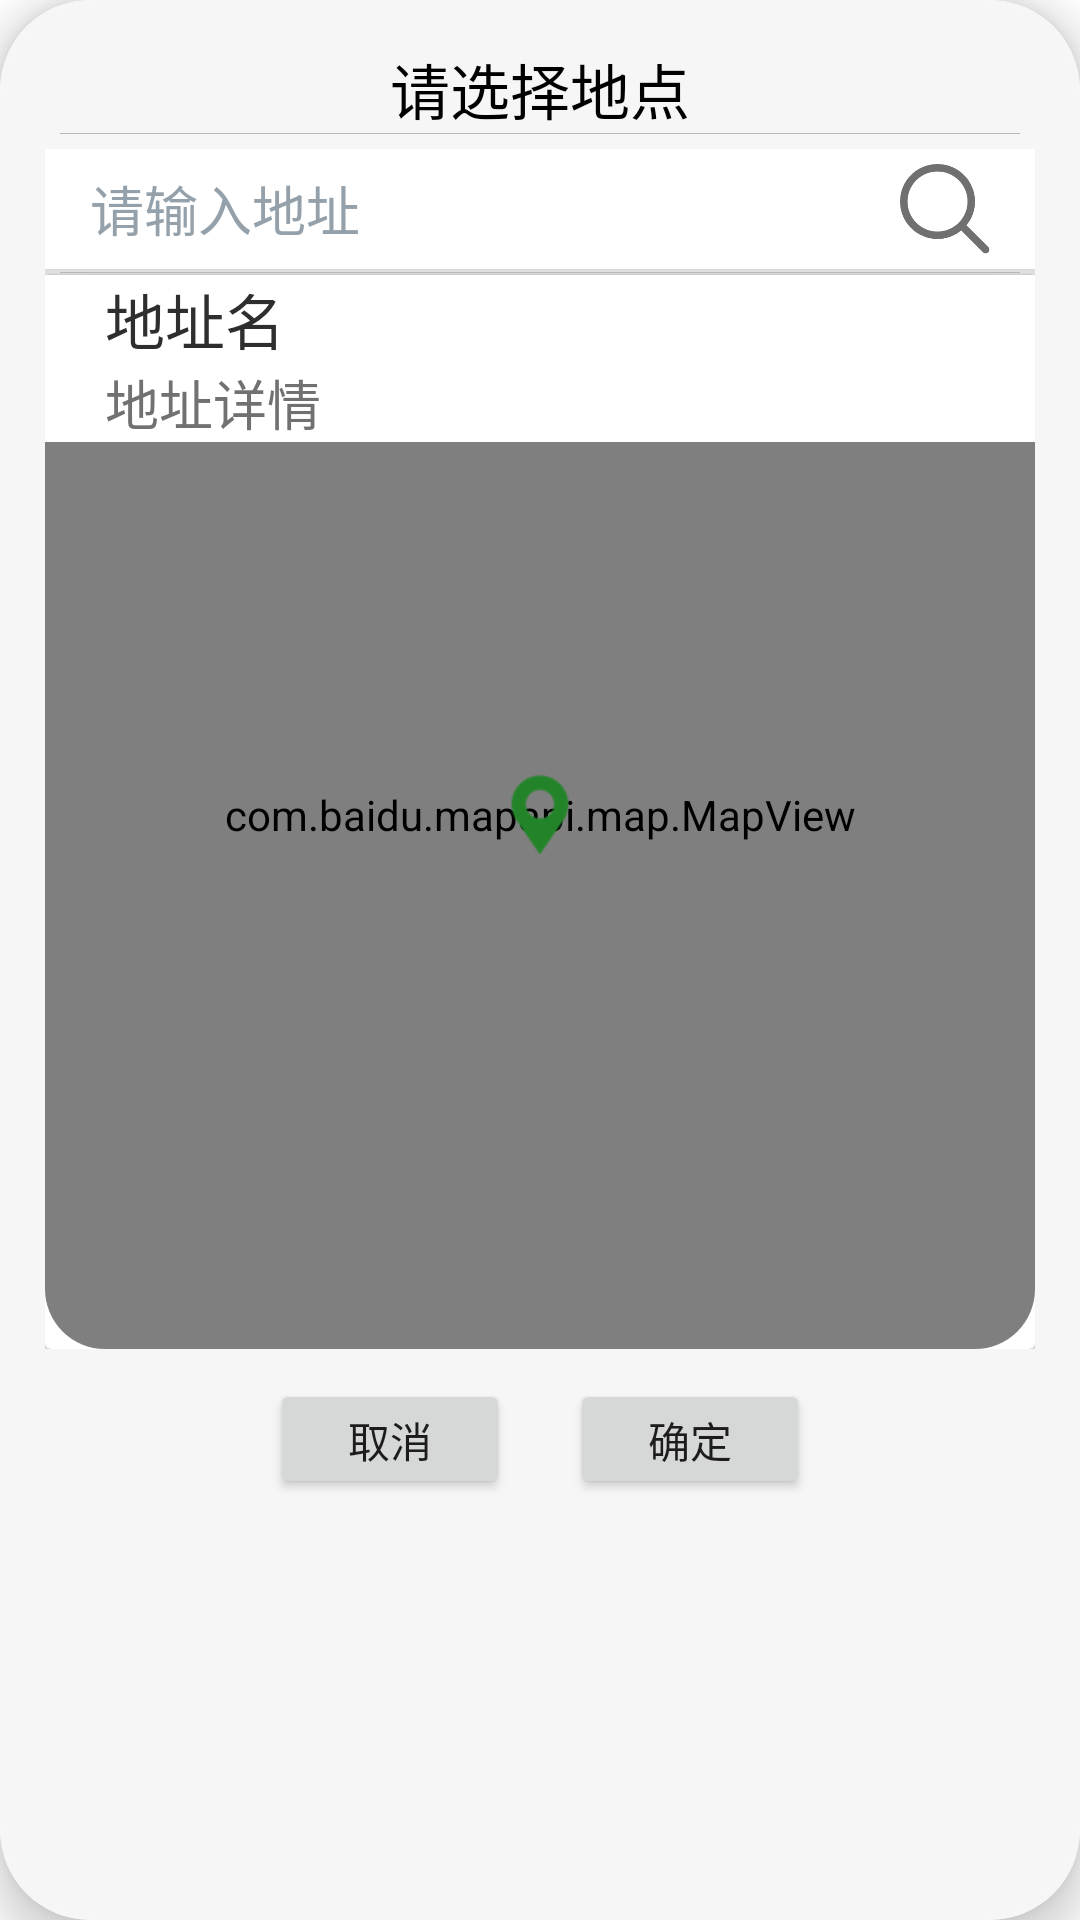

Icon click points for this 1080px x 1920px phone screenshot, format (x=x, y=y):
marker: (x=540, y=814)
search: (x=945, y=209)
